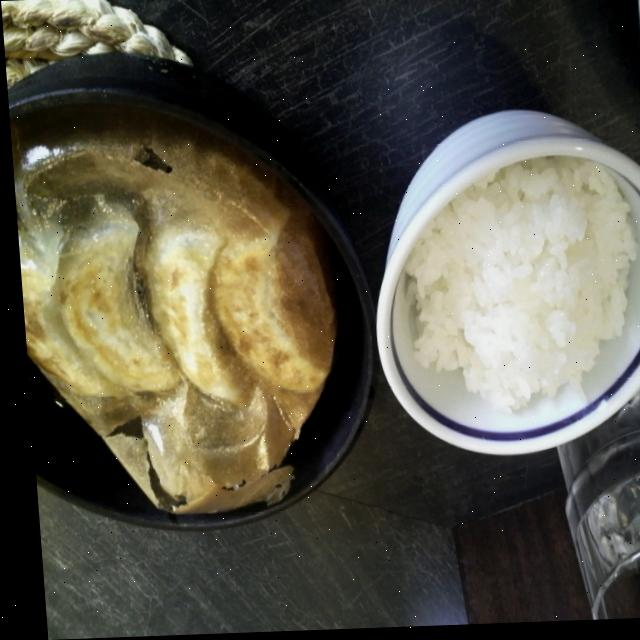带馅早点: (2, 29, 385, 546)
米饭主食: (354, 100, 640, 480)
